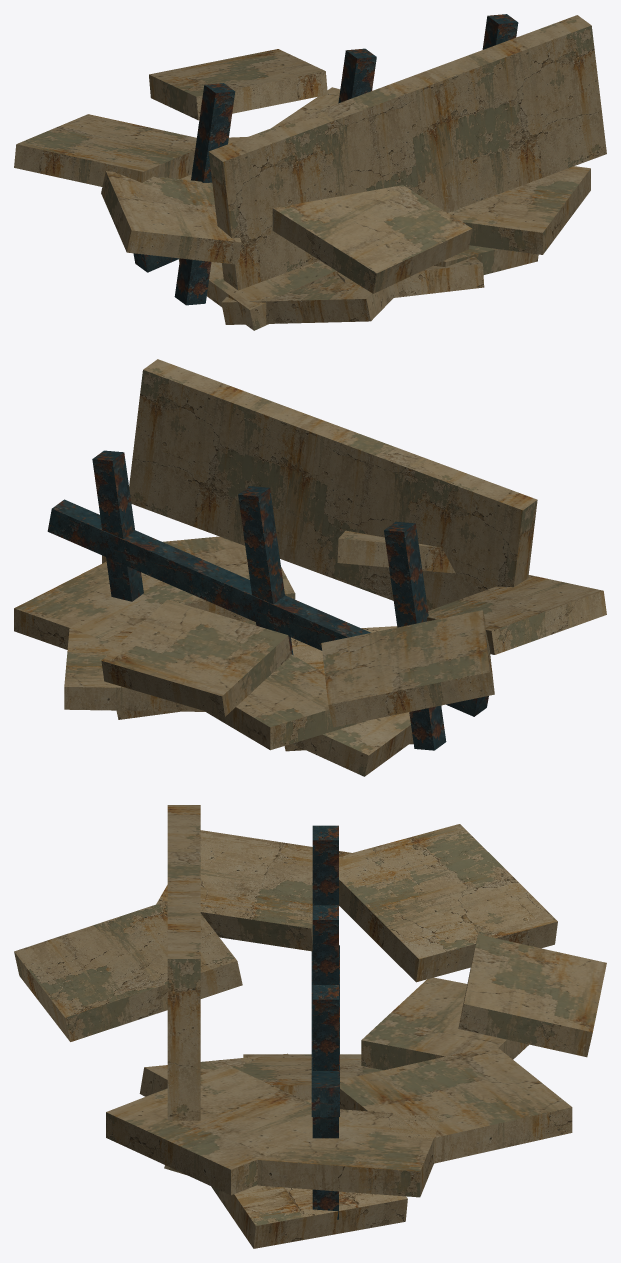
File: city-collapse.glb
The picture shows the model from 3 angles, top to bottom: view 1: azimuth 30°, elevation 25°; view 2: azimuth 150°, elevation 25°; view 3: azimuth 270°, elevation 25°; orthographic projection. The views are drawn at different scales.
Parts seen in each view (by area): view 1: city-collapse-concrete, city-collapse-steel; view 2: city-collapse-concrete, city-collapse-steel; view 3: city-collapse-concrete, city-collapse-steel.
Part boxes in pixels (left/top/right/bottom): city-collapse-concrete: left=14, top=15, right=606, bottom=330; city-collapse-steel: left=133, top=14, right=518, bottom=305; city-collapse-concrete: left=14, top=359, right=606, bottom=776; city-collapse-steel: left=47, top=450, right=488, bottom=750; city-collapse-concrete: left=14, top=805, right=606, bottom=1248; city-collapse-steel: left=311, top=825, right=339, bottom=1219.
Bounding box in the file's own units: 6.85 × 3.5 × 6.28.
2 materials, 2 textured.
